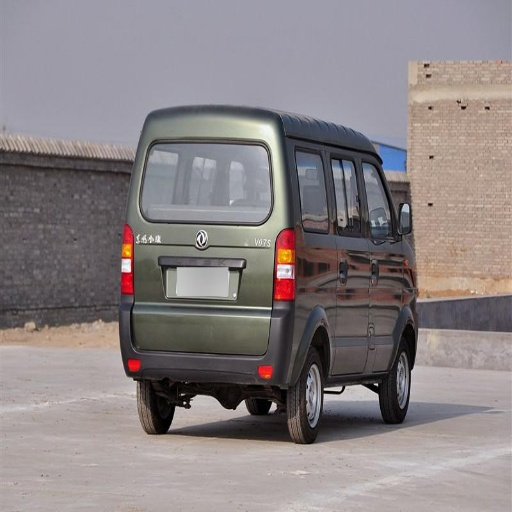back_bumper: (119, 301, 269, 382)
trunk: (139, 211, 331, 381), (367, 258, 410, 342)
